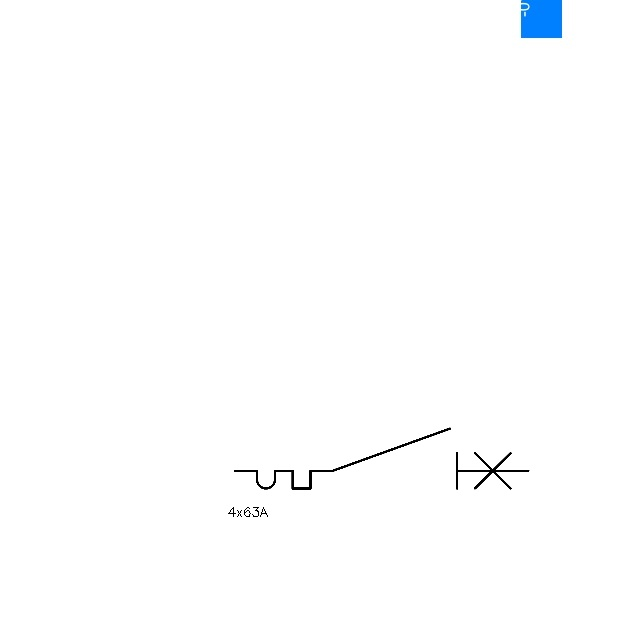interruptor_termomagnetico: (227, 421, 536, 496)
